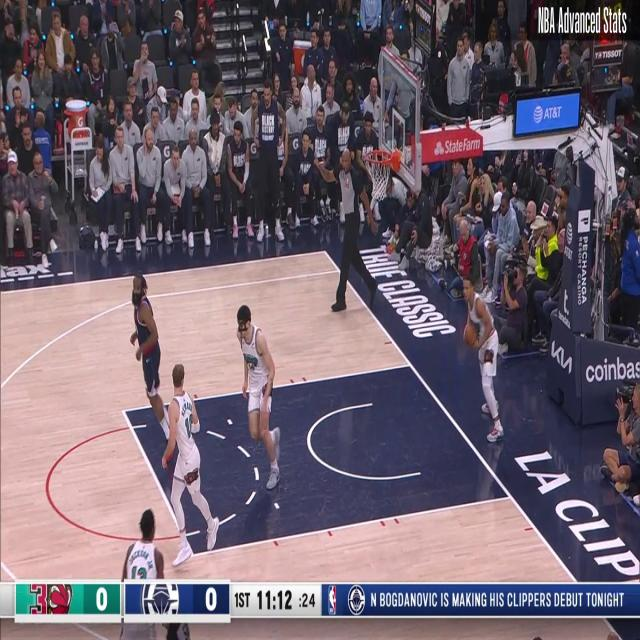ball: (462, 313, 480, 350)
judge: (322, 134, 376, 316)
player: (162, 364, 218, 566), (237, 305, 285, 488), (460, 279, 502, 446), (130, 279, 168, 440), (120, 512, 169, 631)
